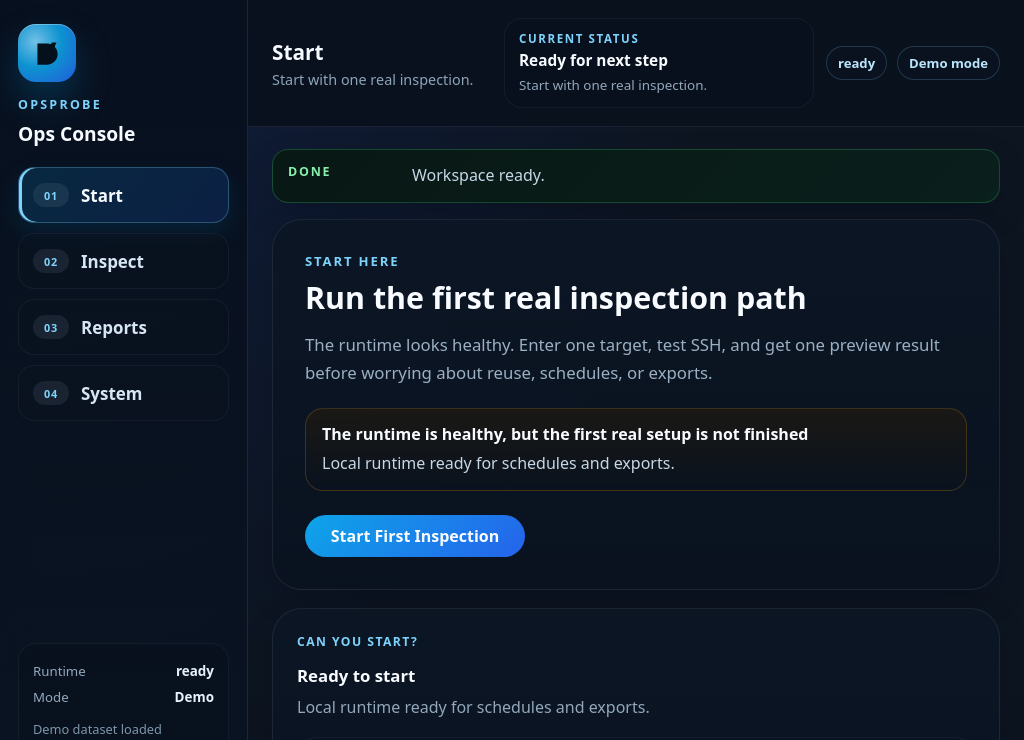
desktop app shell › shows results as a current conclusion first and history second
The image size is (1024, 740).
Step 1. Click the button "03 Reports" → {"x": 124, "y": 327}, box [18, 299, 229, 355]
(page scrolled)
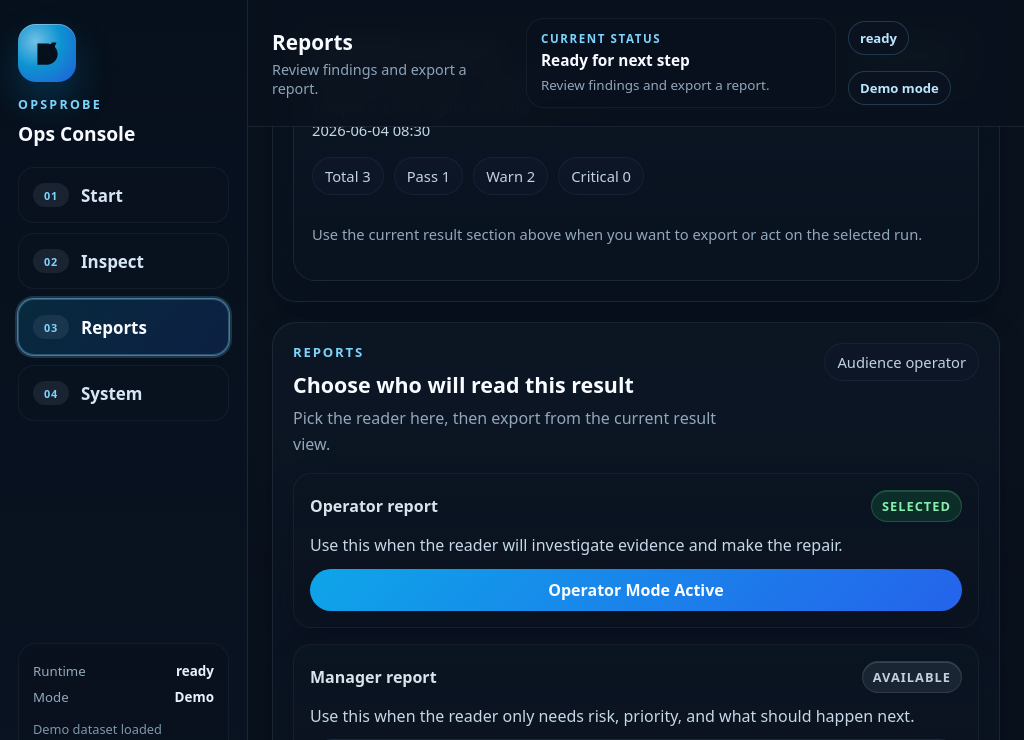
Expected: the heading "Choose who will read this result" is shown, [293, 370, 634, 399]
